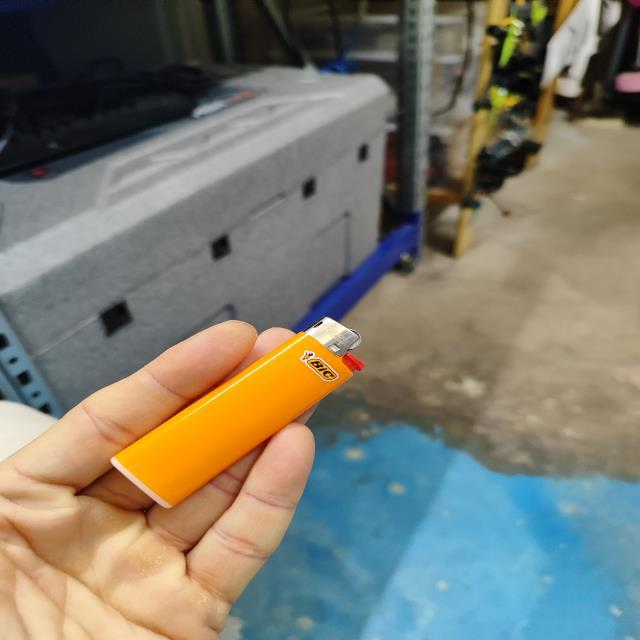lighter: (112, 317, 363, 506)
